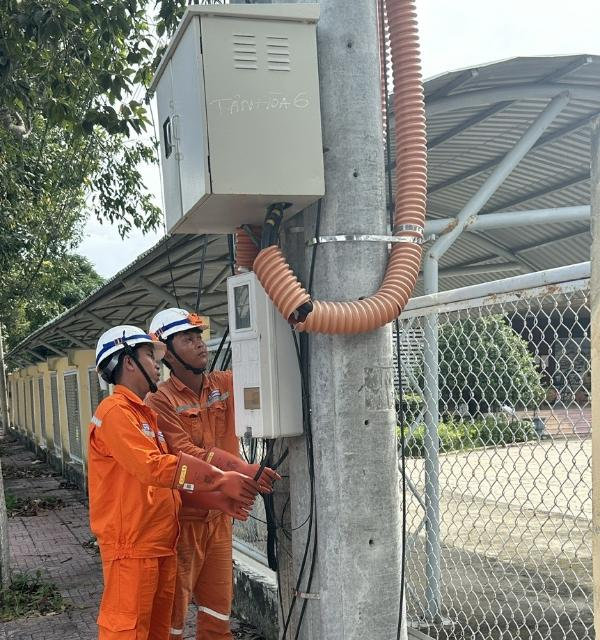gloves: (162, 449, 261, 505), (173, 466, 257, 522), (202, 438, 284, 493)
helmet: (85, 319, 166, 378), (143, 301, 217, 342)
